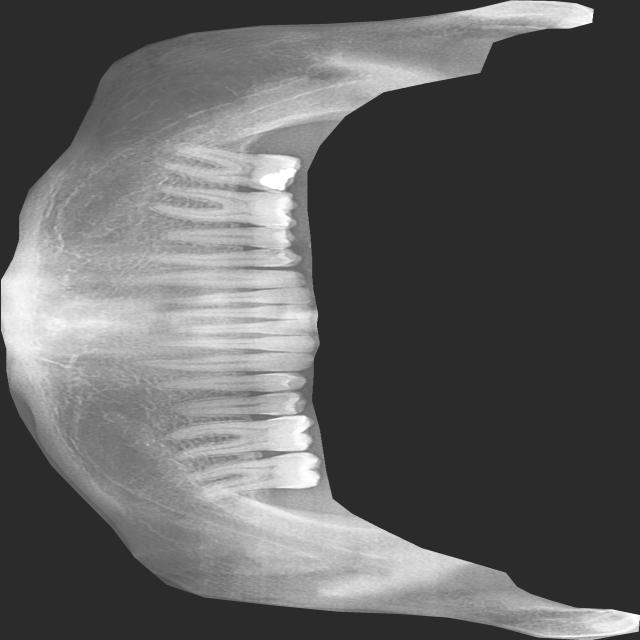mandibula: (0, 0, 639, 640)
